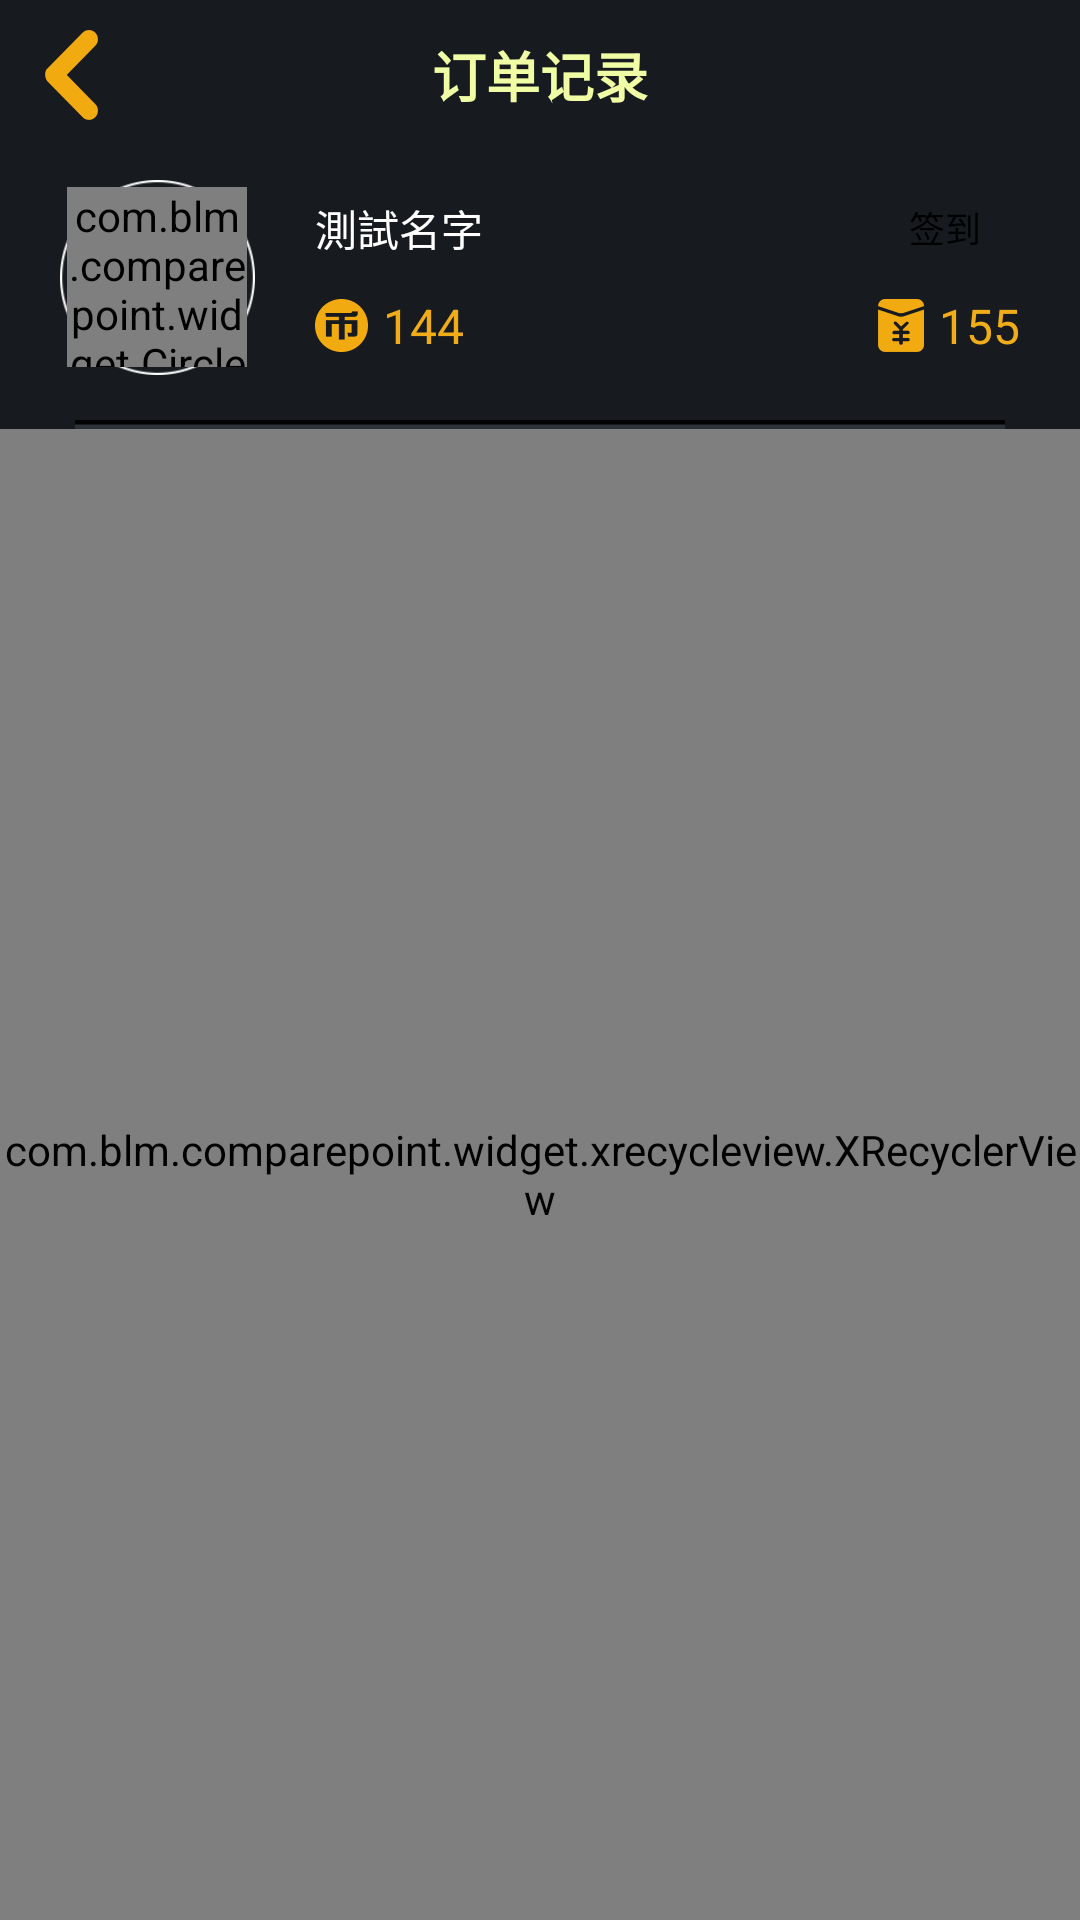

Named icons in this screenshot (1080px×1920px) and their centers, [x,y]:
back: [71,75]
